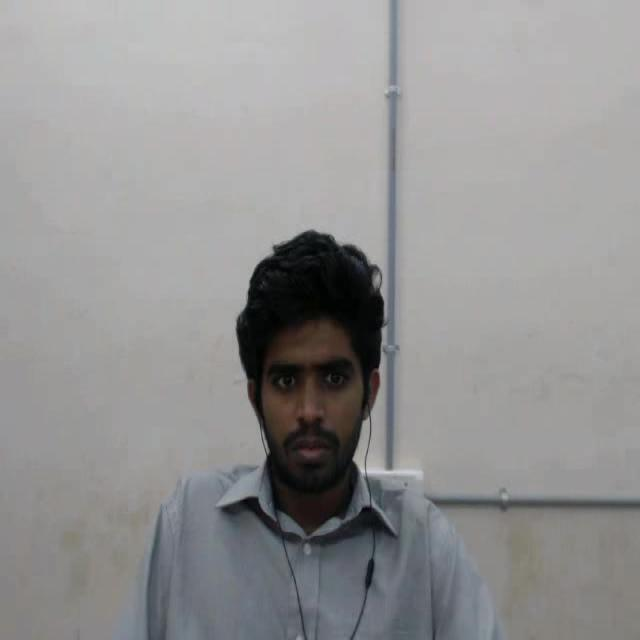Engaged: (215, 216, 404, 513)
